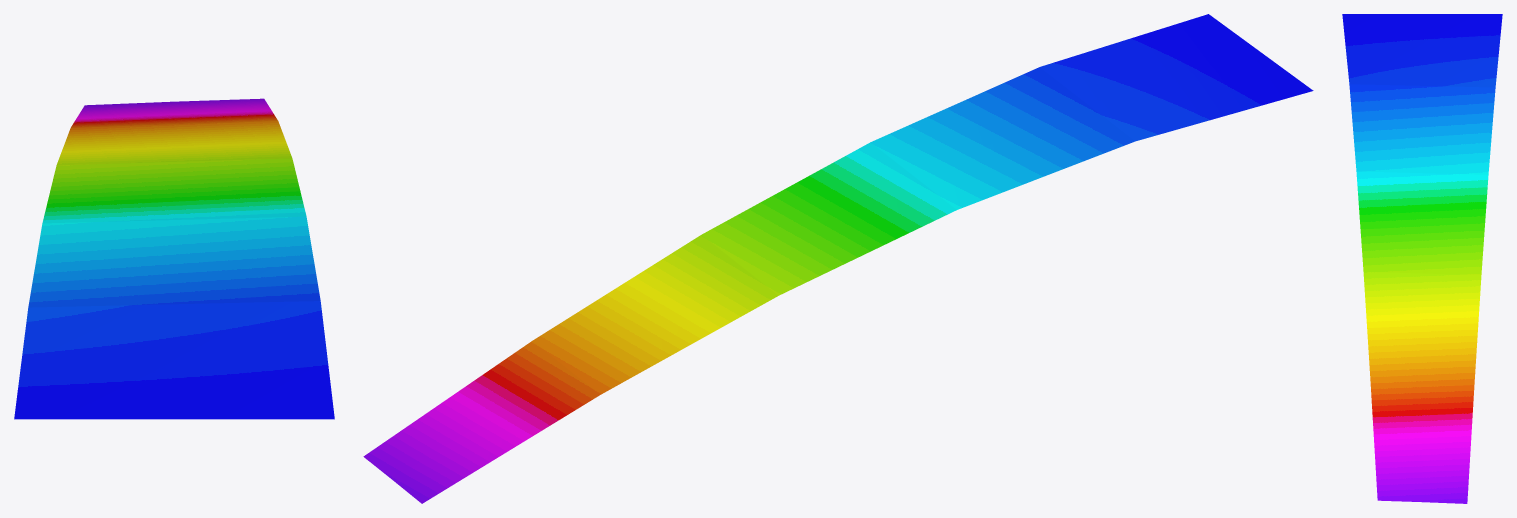
3 views of the same model, side by side, from view 1: azimuth 90°, elevation 25°; view 2: azimuth 210°, elevation 25°; view 3: azimuth 270°, elevation 25° (orthographic). The views are drawn at different scales.
Parts seen in each view (by area): view 1: Elements; view 2: Elements; view 3: Elements.
Part boxes in pixels (x1,y1,x2,y2): Elements: (14,98,334,419); Elements: (363,14,1313,503); Elements: (1342,14,1502,503).
Size of the model in its own units: 1 by 0.24 by 0.2095.
1 material, 1 textured.
